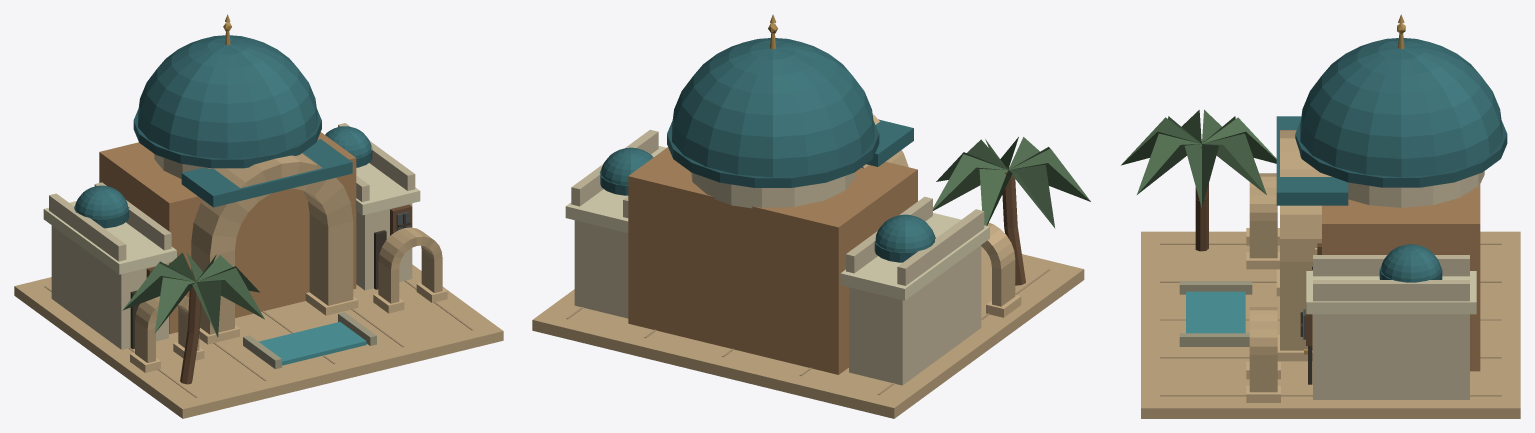
The picture shows the model from 3 angles, left to right: view 1: azimuth 30°, elevation 25°; view 2: azimuth 150°, elevation 25°; view 3: azimuth 270°, elevation 25°; orthographic projection. The views are drawn at different scales.
Visible parts, largest first — view 1: S26_巴格达 · 圆顶学宫; view 2: S26_巴格达 · 圆顶学宫; view 3: S26_巴格达 · 圆顶学宫.
Part boxes in pixels (x1=…): S26_巴格达 · 圆顶学宫: x1=14, y1=14, x2=503, y2=418; S26_巴格达 · 圆顶学宫: x1=532, y1=14, x2=1090, y2=418; S26_巴格达 · 圆顶学宫: x1=1121, y1=14, x2=1520, y2=418.
Size of the model in its own units: 4.06 by 3.23 by 3.69.
